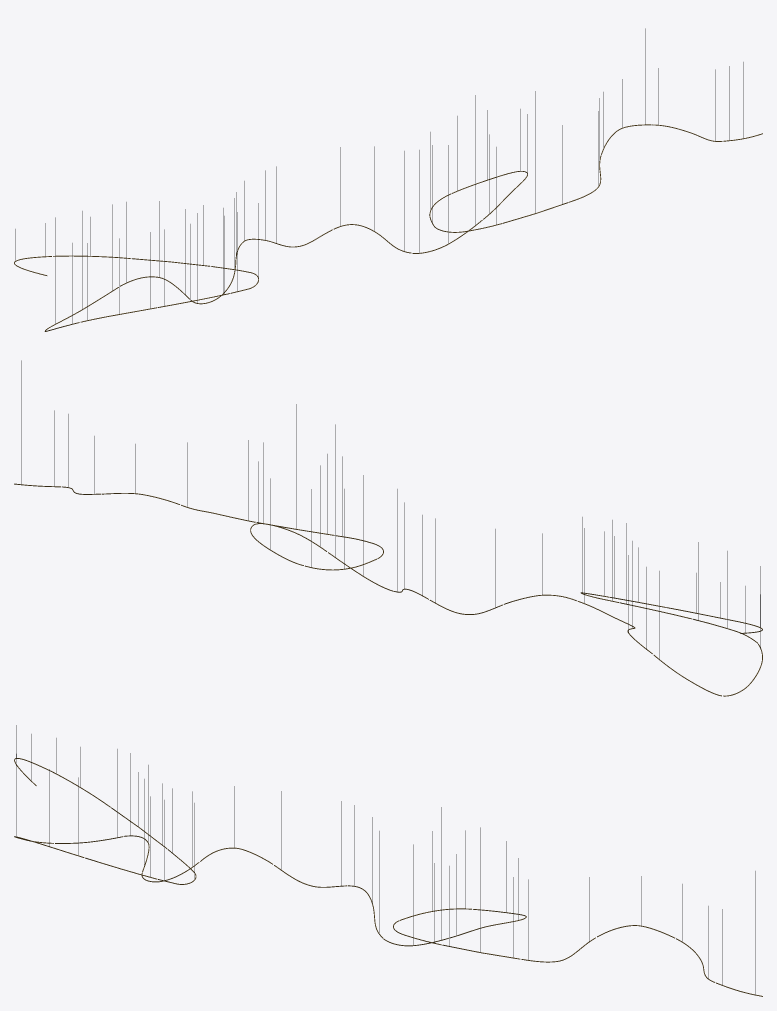
The model's file is kultura_2_neon.fbx.
3 views of the same model, one above another, from view 1: azimuth 30°, elevation 25°; view 2: azimuth 150°, elevation 25°; view 3: azimuth 330°, elevation 25° (orthographic). The views are drawn at different scales.
Visible parts, largest first — view 1: suspend, light; view 2: suspend, light; view 3: suspend, light.
Boxes of the visible parts, <box> form: suspend: <box>15,28,743,323</box>; light: <box>14,124,762,331</box>; suspend: <box>21,360,760,658</box>; light: <box>14,483,762,696</box>; suspend: <box>16,725,755,994</box>; light: <box>14,758,762,996</box>.
Size of the model in its own units: 14365 by 2800 by 1491.
